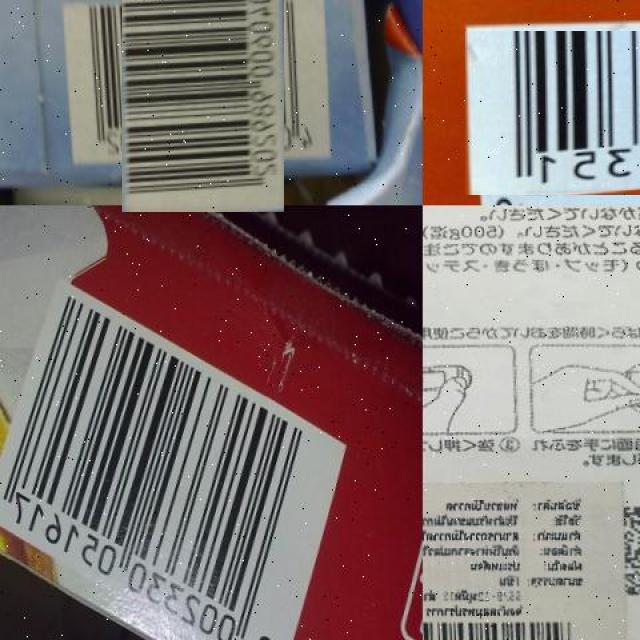Barcode: (0, 273, 367, 640), (97, 0, 310, 188), (470, 26, 640, 201), (423, 613, 589, 640)
